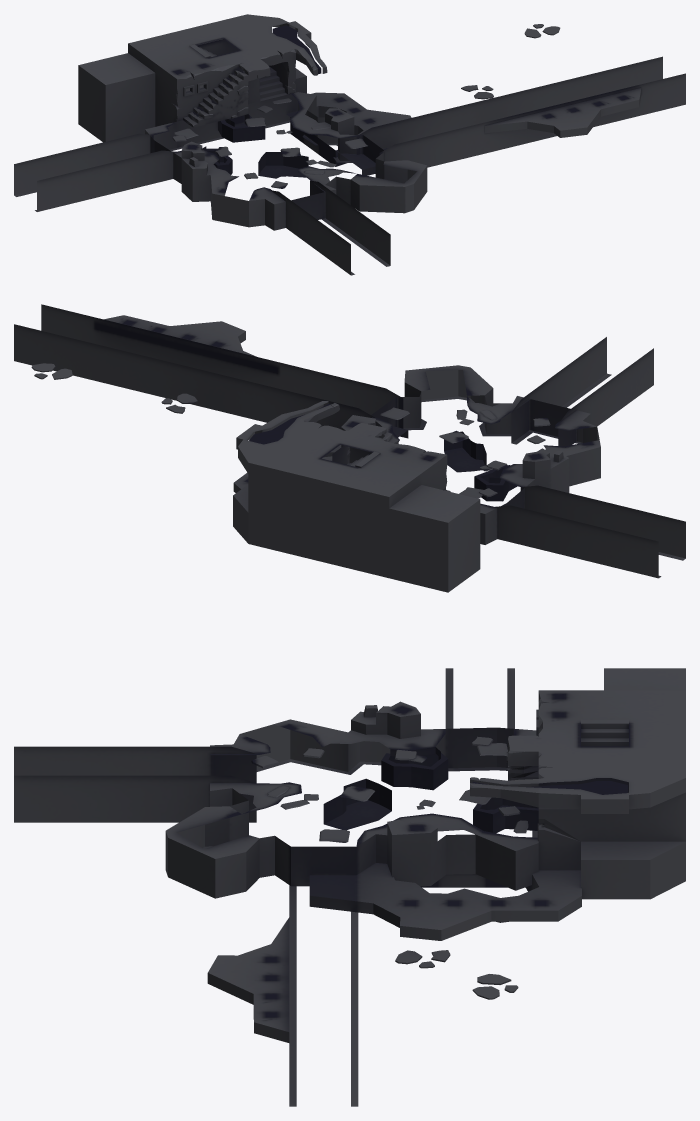
The model's file is Ground_01.FBX.
3 renders of one model, top to bottom at view 1: azimuth 30°, elevation 25°; view 2: azimuth 150°, elevation 25°; view 3: azimuth 270°, elevation 25°, orthographic. The views are drawn at different scales.
Parts seen in each view (by area): view 1: Ground_01; view 2: Ground_01; view 3: Ground_01.
Part boxes in pixels (x1,y1,x2,y2): Ground_01: [14, 14, 685, 275]; Ground_01: [14, 304, 685, 592]; Ground_01: [14, 668, 685, 1106].
Size of the model in its own units: 69.45 by 8.81 by 44.99.
